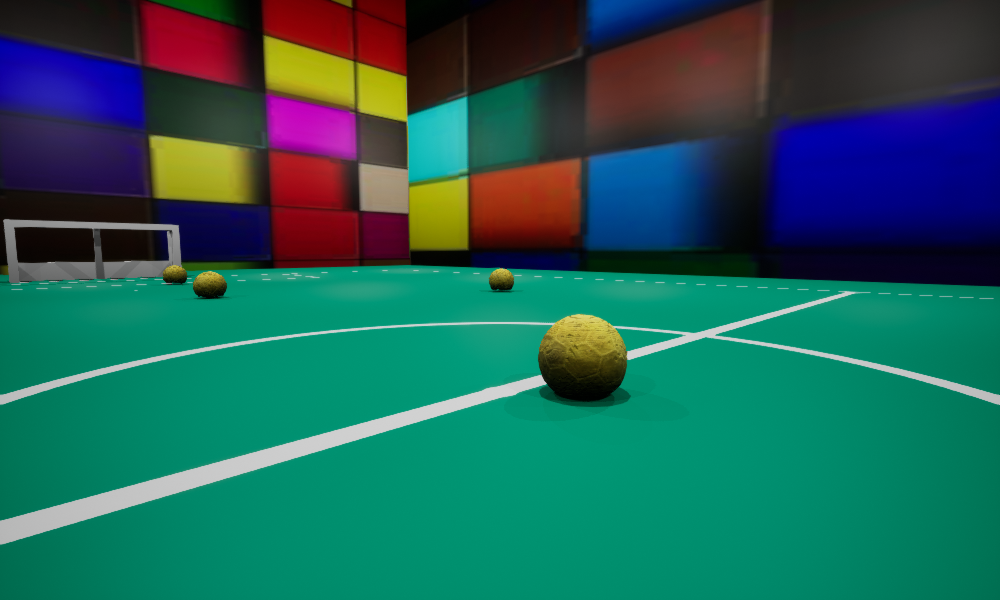b: (538, 314, 626, 399), (193, 271, 226, 297), (489, 268, 513, 291), (163, 265, 187, 284)
g: (3, 219, 181, 282)
